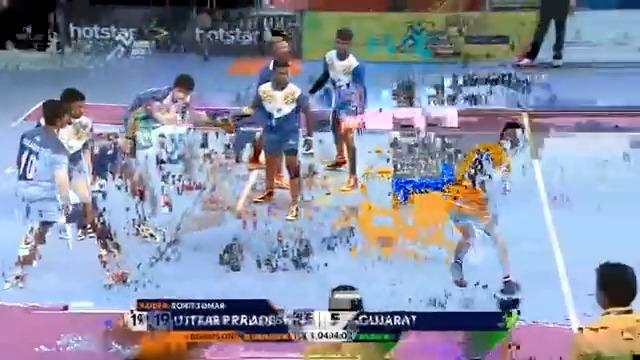Player: (120, 72, 233, 216), (232, 26, 314, 220), (4, 97, 78, 289), (307, 27, 367, 191), (569, 260, 639, 359)
referee: (513, 0, 572, 68)
